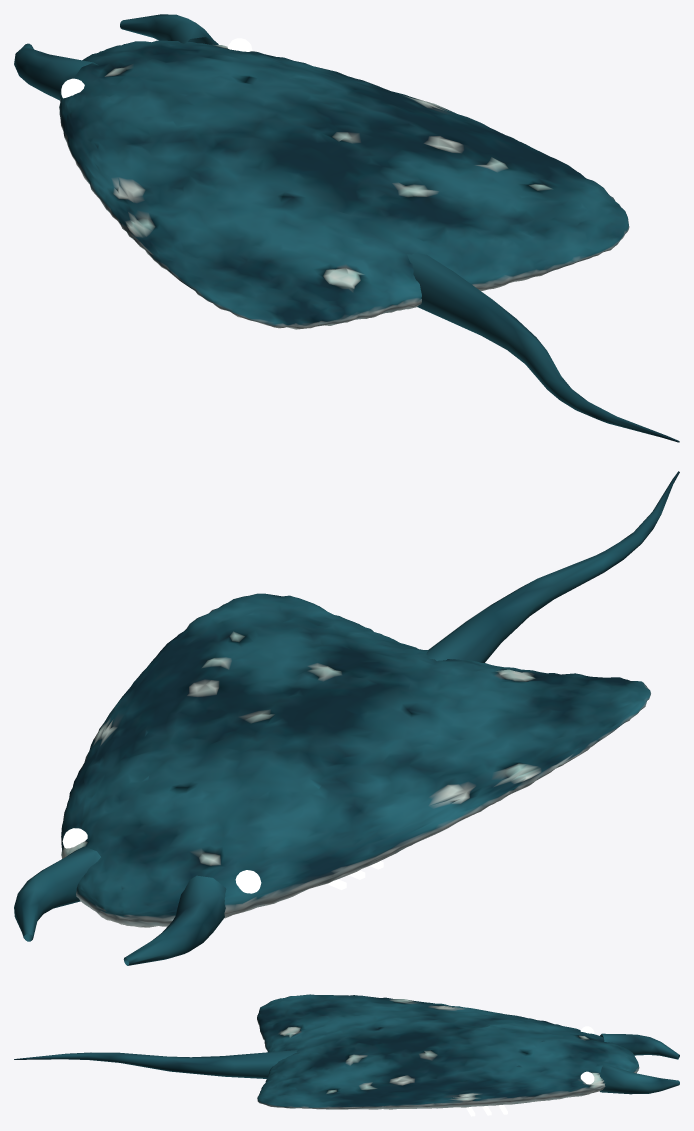
The model's file is drovani_small.glb.
3 views of the same model, one above another, from view 1: azimuth 30°, elevation 25°; view 2: azimuth 150°, elevation 25°; view 3: azimuth 270°, elevation 25° (orthographic). The views are drawn at different scales.
Parts seen in each view (by area): view 1: drovani_small.001; view 2: drovani_small.001; view 3: drovani_small.001.
Boxes of the visible parts, x1,y1,x2,y2 form: drovani_small.001: [14, 14, 679, 442]; drovani_small.001: [14, 471, 679, 965]; drovani_small.001: [14, 994, 679, 1116].
Bounding box in the file's own units: 4.01 × 0.8619 × 10.
